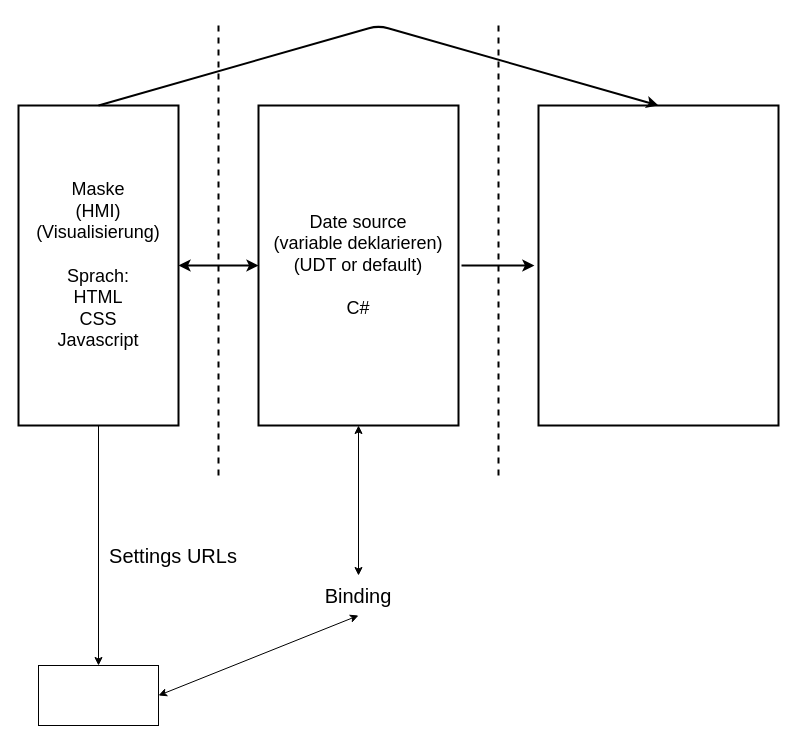
The diagram is 796 pixels wide and 743 high, and some of its shapes have lost their labels. The shapes that lost their labels are listed below. From the top down, each one's centre as x and y in pixels, then its label:
At pixel 658 265: "Workflow Schritt und action (logic) (validieren und berechtigen) Sprach: C#".
At pixel 98 695: "Datenbank".
